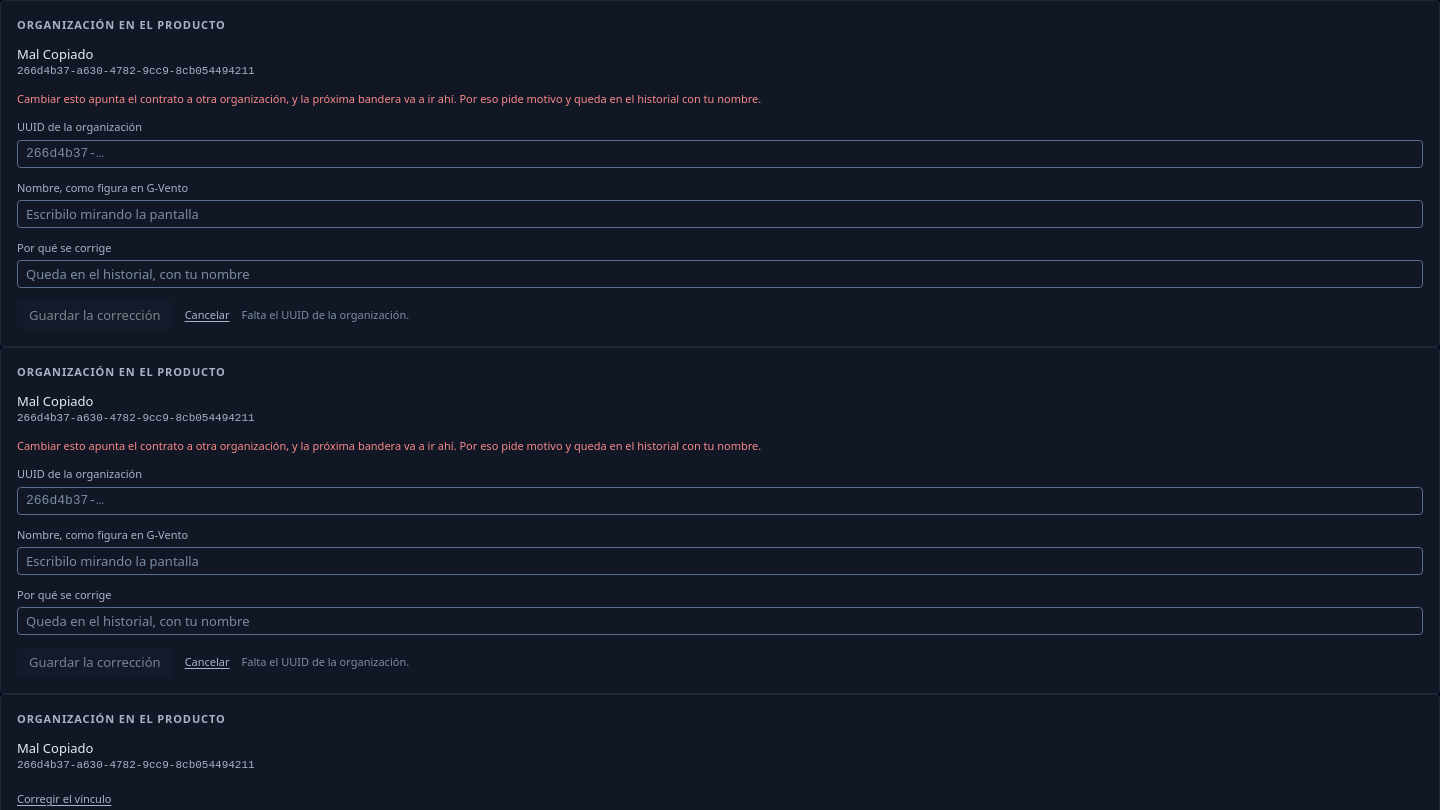
Test: el camino de corregir, apretando de verdad › el botón de guardar dice qué le falta en vez de quedarse mudo
Click the button "Corregir el vínculo" at (64, 799), box [17,791,111,807]
(page scrolled)
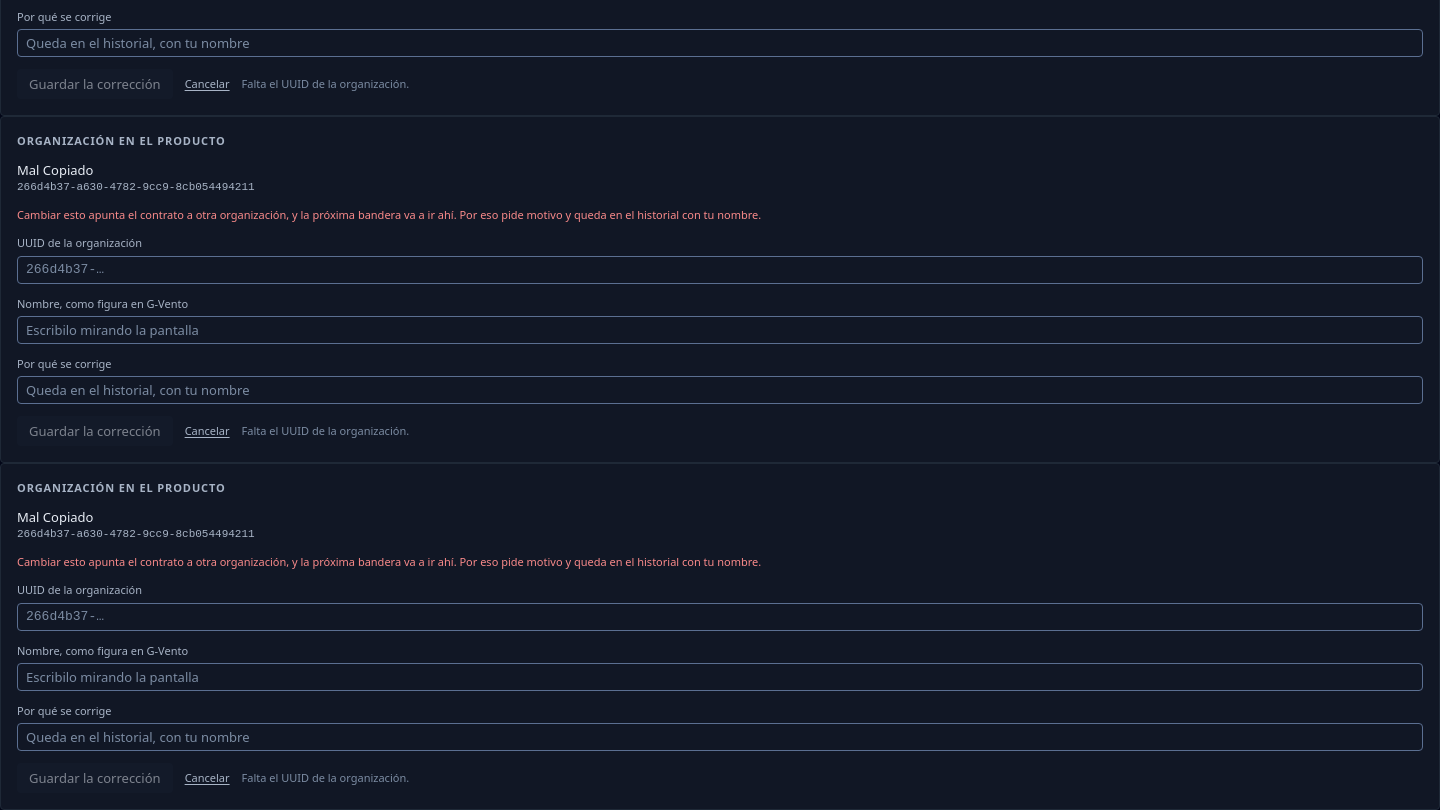
expect the text "Falta el UUID" is shown: met, box [242,76,409,91]
expect the 3rd button "Guardar la corrección" is disabled: met, box [17,763,173,793]
